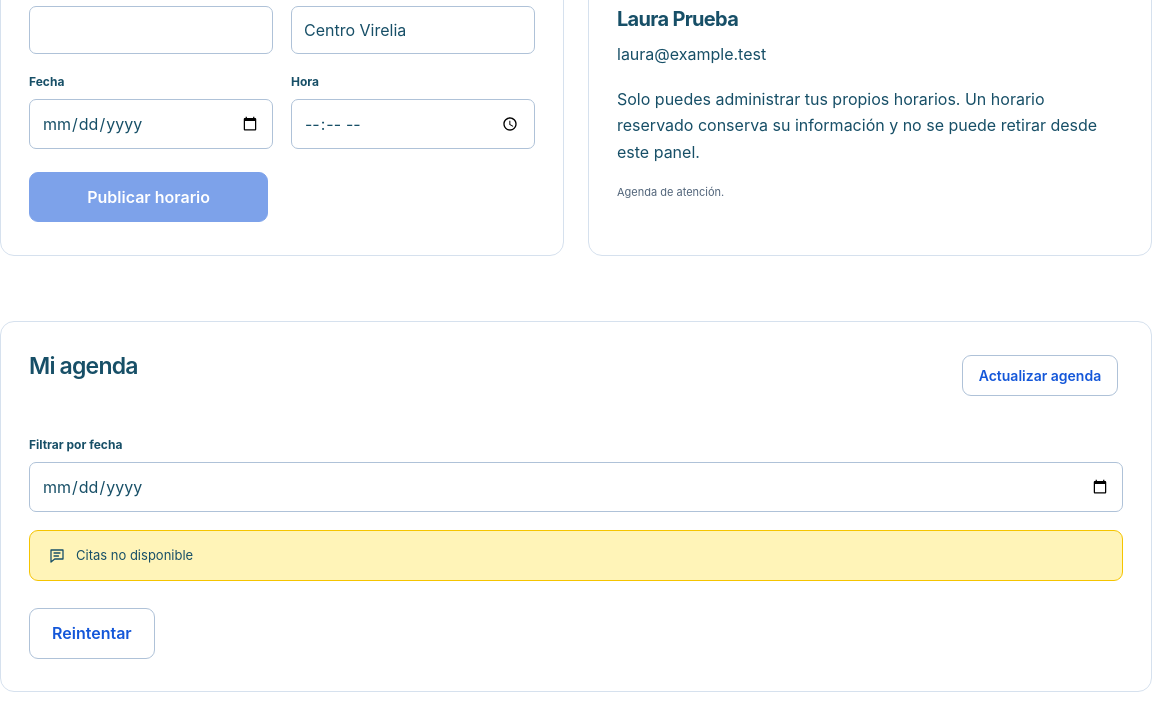
Test: un fallo de citas muestra reintento dentro de la agenda profesional
(page scrolled)
Expected: the text "Citas no disponible" is shown, left=76, top=545, right=193, bottom=566
Click the button "Reintentar" at (92, 633), box left=29, top=608, right=155, bottom=659
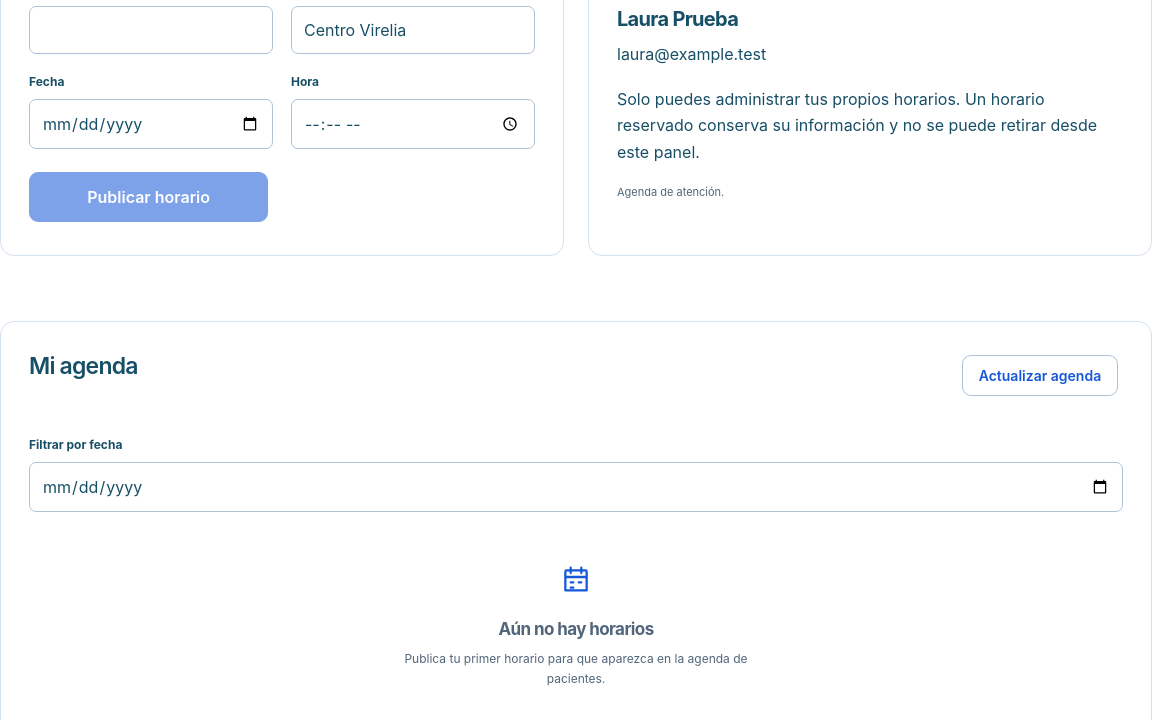
Result: the heading "Aún no hay horarios" is shown at left=498, top=619, right=654, bottom=639
